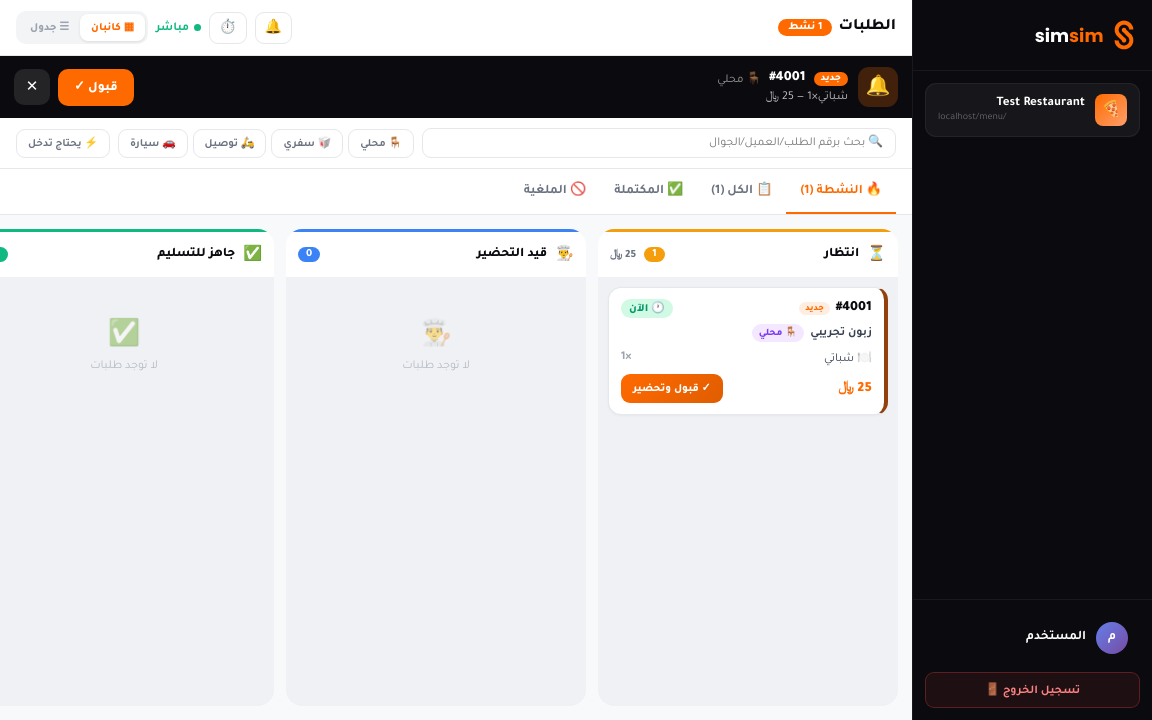
Test case: Orders() — acceptFromBanner (ORDERS-COV-023, a PHASE-7-documented fix) › success: accepts the order from the banner and shows the order-specific success message
This screenshot has width=1152, height=720.
Expected: the text "🔥 النشطة (1)" is shown, [786,169,896,214]
Click the button "قبول ✓".
click(96, 87)  # box [58,68,134,106]
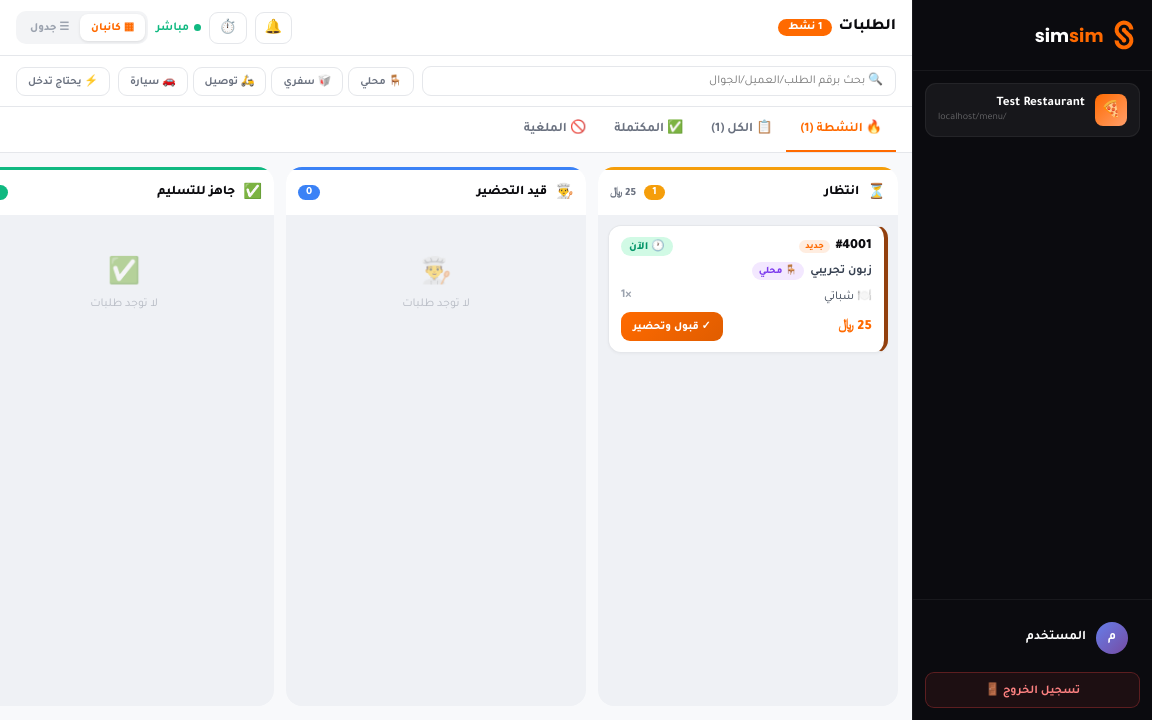
Expected: the button "قبول ✓" is gone
